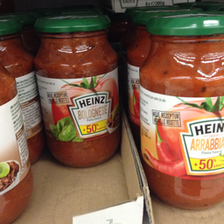tomato_sauce: (139, 11, 224, 212), (34, 16, 122, 169)
